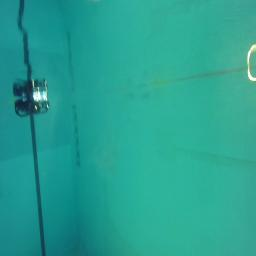front: (15, 95, 49, 117)
